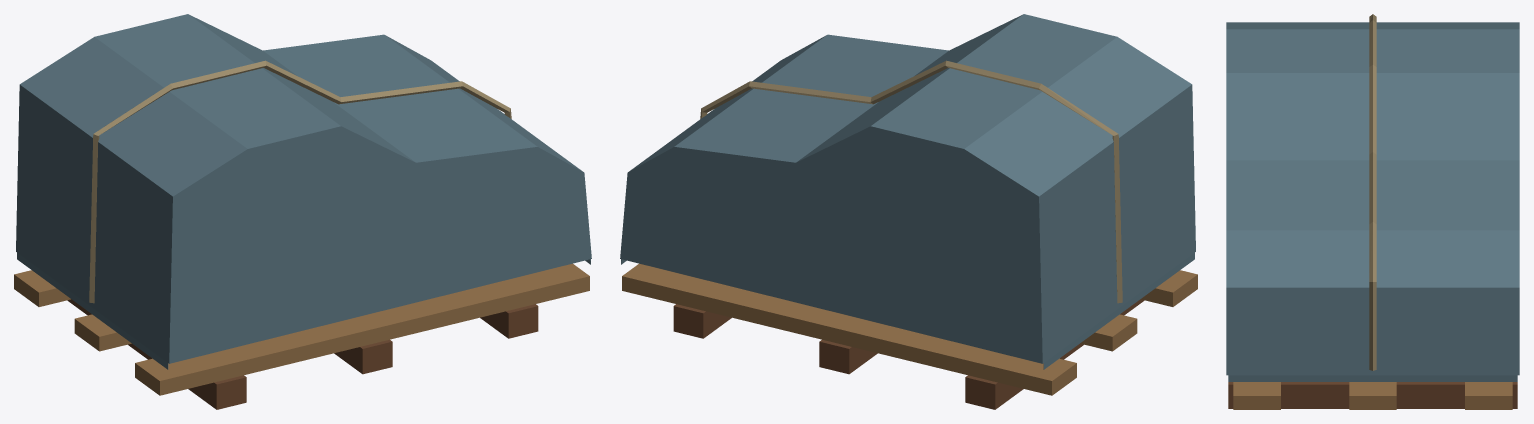
The model's file is Prop_Daily_TarpaulinCargo_001_LOD1.glb.
3 views of the same model, side by side, from view 1: azimuth 30°, elevation 25°; view 2: azimuth 150°, elevation 25°; view 3: azimuth 270°, elevation 25° (orthographic). The views are drawn at different scales.
Parts seen in each view (by area): view 1: Prop_Daily_TarpaulinCargo_001_LOD1; view 2: Prop_Daily_TarpaulinCargo_001_LOD1; view 3: Prop_Daily_TarpaulinCargo_001_LOD1.
Part boxes in pixels (x1=…): Prop_Daily_TarpaulinCargo_001_LOD1: x1=14, y1=14, x2=591, y2=409; Prop_Daily_TarpaulinCargo_001_LOD1: x1=620, y1=14, x2=1197, y2=409; Prop_Daily_TarpaulinCargo_001_LOD1: x1=1226, y1=14, x2=1519, y2=409.
Size of the model in its own units: 2.31 by 1.35 by 1.42.
